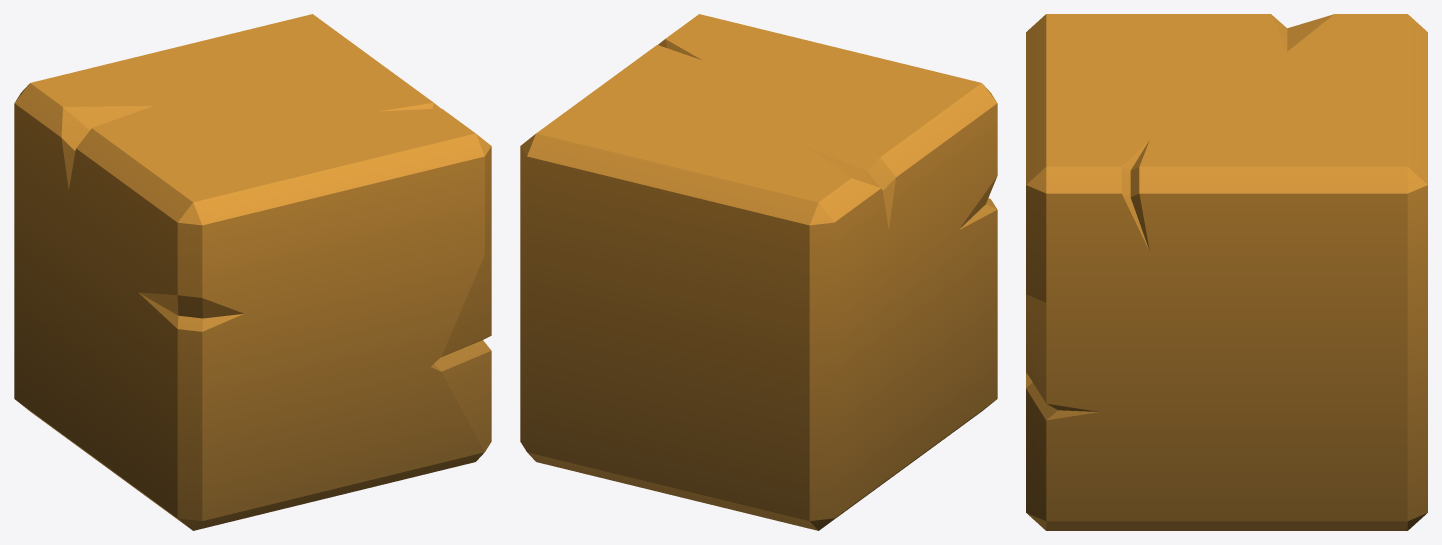
The model's file is Tile_Cracked_Gold.fbx.
3 views of the same model, side by side, from view 1: azimuth 30°, elevation 25°; view 2: azimuth 150°, elevation 25°; view 3: azimuth 270°, elevation 25° (orthographic). The views are drawn at different scales.
Parts seen in each view (by area): view 1: Tile Emas Coak; view 2: Tile Emas Coak; view 3: Tile Emas Coak.
Boxes of the visible parts, x1,y1,x2,y2 form: Tile Emas Coak: (14, 14, 491, 530); Tile Emas Coak: (520, 14, 997, 530); Tile Emas Coak: (1026, 14, 1427, 530).
Size of the model in its own units: 1 by 1 by 1.
1 material, 1 textured.
